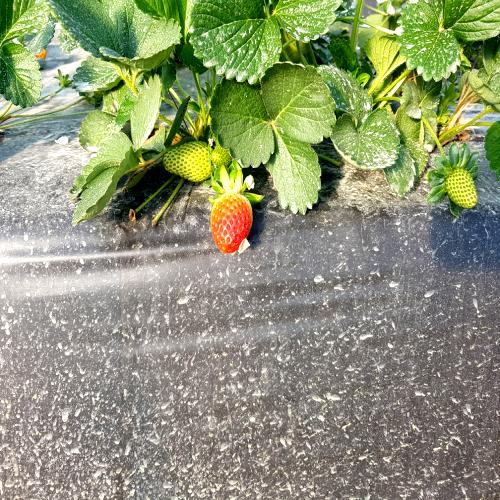unripe: (208, 192, 257, 257)
